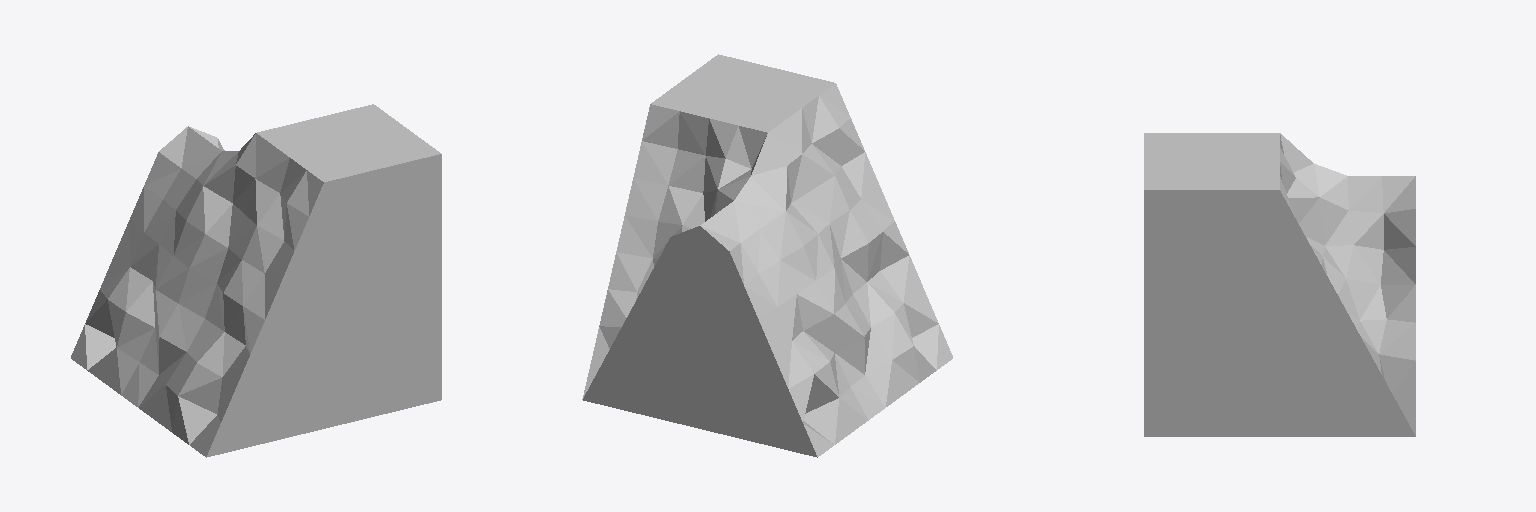
Rendered from wall_single_edge_left.obj.
3 renders of one model, left to right at view 1: azimuth 30°, elevation 25°; view 2: azimuth 150°, elevation 25°; view 3: azimuth 270°, elevation 25°, orthographic.
Parts seen in each view (by area): view 1: Cube.006_Cube.011; view 2: Cube.006_Cube.011; view 3: Cube.006_Cube.011.
Boxes of the visible parts, box(x1,y1,x2,y2) form: Cube.006_Cube.011: box(71, 104, 441, 457); Cube.006_Cube.011: box(582, 54, 952, 457); Cube.006_Cube.011: box(1144, 133, 1415, 436).
Bounding box in the file's own units: 1 × 1 × 1.